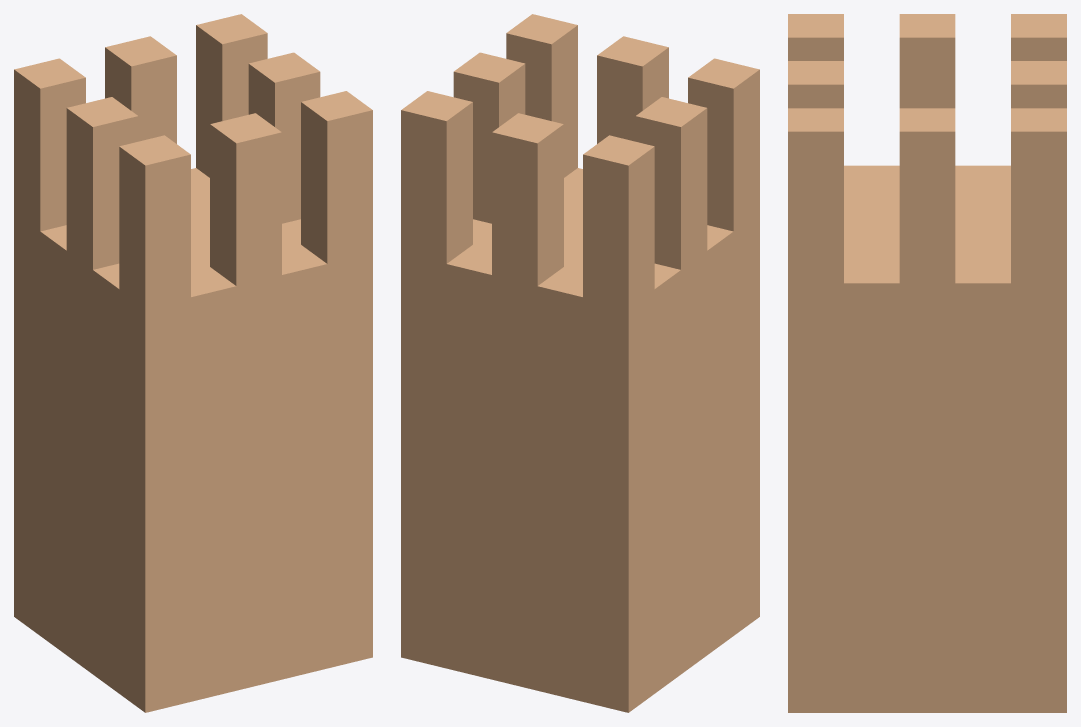
The model's file is rook_white.fbx.
3 views of the same model, side by side, from view 1: azimuth 30°, elevation 25°; view 2: azimuth 150°, elevation 25°; view 3: azimuth 270°, elevation 25° (orthographic). The views are drawn at different scales.
Parts seen in each view (by area): view 1: Cube.013; view 2: Cube.013; view 3: Cube.013.
Boxes of the visible parts, x1=… form: Cube.013: x1=14, y1=14, x2=372, y2=712; Cube.013: x1=401, y1=14, x2=759, y2=712; Cube.013: x1=788, y1=14, x2=1066, y2=712.
Bounding box in the file's own units: 2.8 × 6.43 × 2.8.
